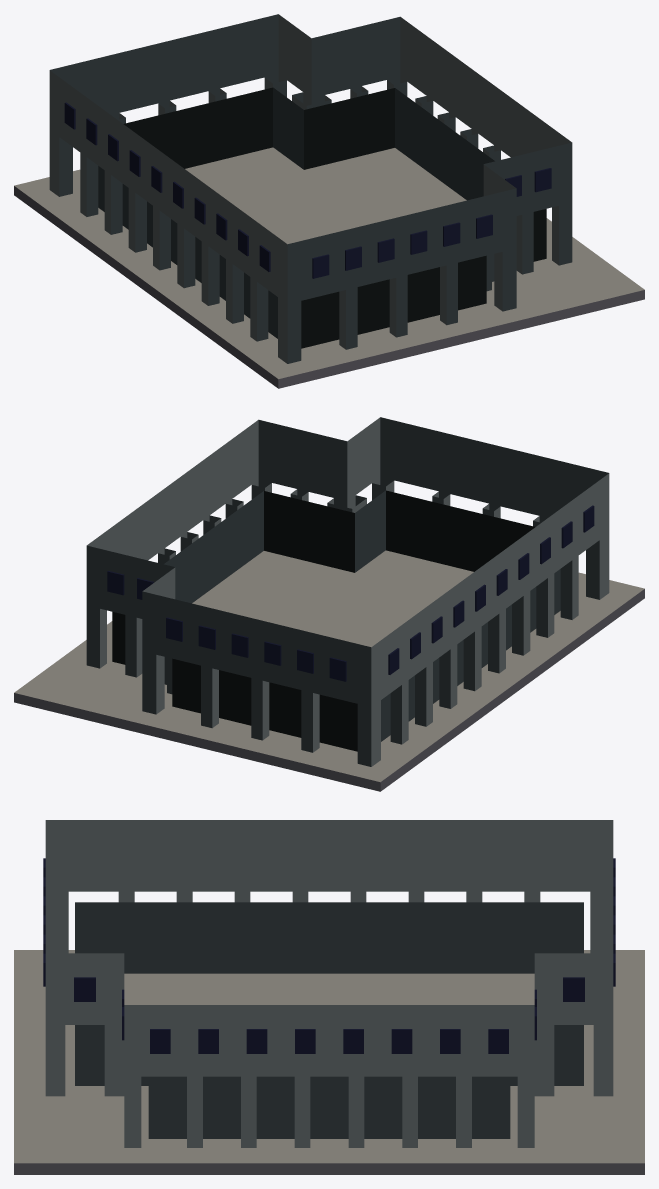
File: TB_CITY_Skysc_S_Bottom_Gray.FBX
3 views of the same model, one above another, from view 1: azimuth 30°, elevation 25°; view 2: azimuth 150°, elevation 25°; view 3: azimuth 270°, elevation 25° (orthographic). The views are drawn at different scales.
Parts seen in each view (by area): view 1: TB_CITY_Skysc_S_Bottom_Gray; view 2: TB_CITY_Skysc_S_Bottom_Gray; view 3: TB_CITY_Skysc_S_Bottom_Gray.
Part boxes in pixels (left/top/right/bottom): TB_CITY_Skysc_S_Bottom_Gray: left=14, top=14, right=644, bottom=388; TB_CITY_Skysc_S_Bottom_Gray: left=14, top=417, right=644, bottom=791; TB_CITY_Skysc_S_Bottom_Gray: left=14, top=820, right=644, bottom=1174.
Bounding box in the file's own units: 32 × 10.8 × 40.
